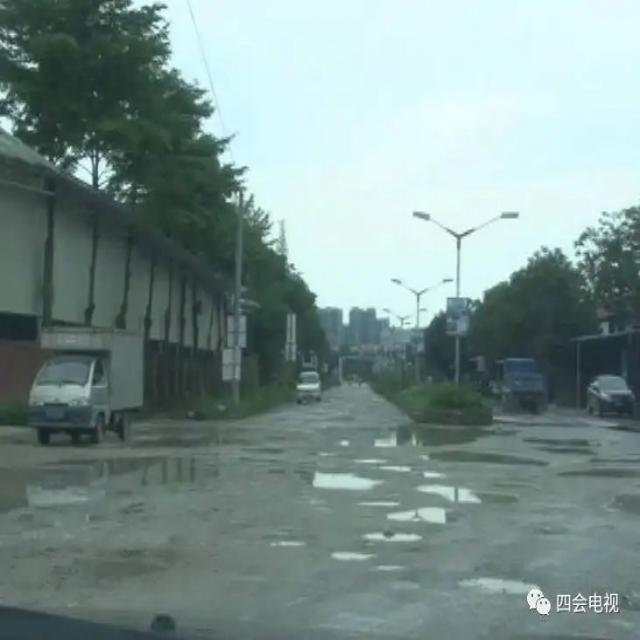Pothole: (416, 448, 550, 470), (415, 481, 517, 507), (290, 468, 390, 494), (454, 575, 542, 597), (389, 506, 468, 522), (360, 525, 425, 544), (257, 532, 317, 550), (329, 550, 377, 561)
